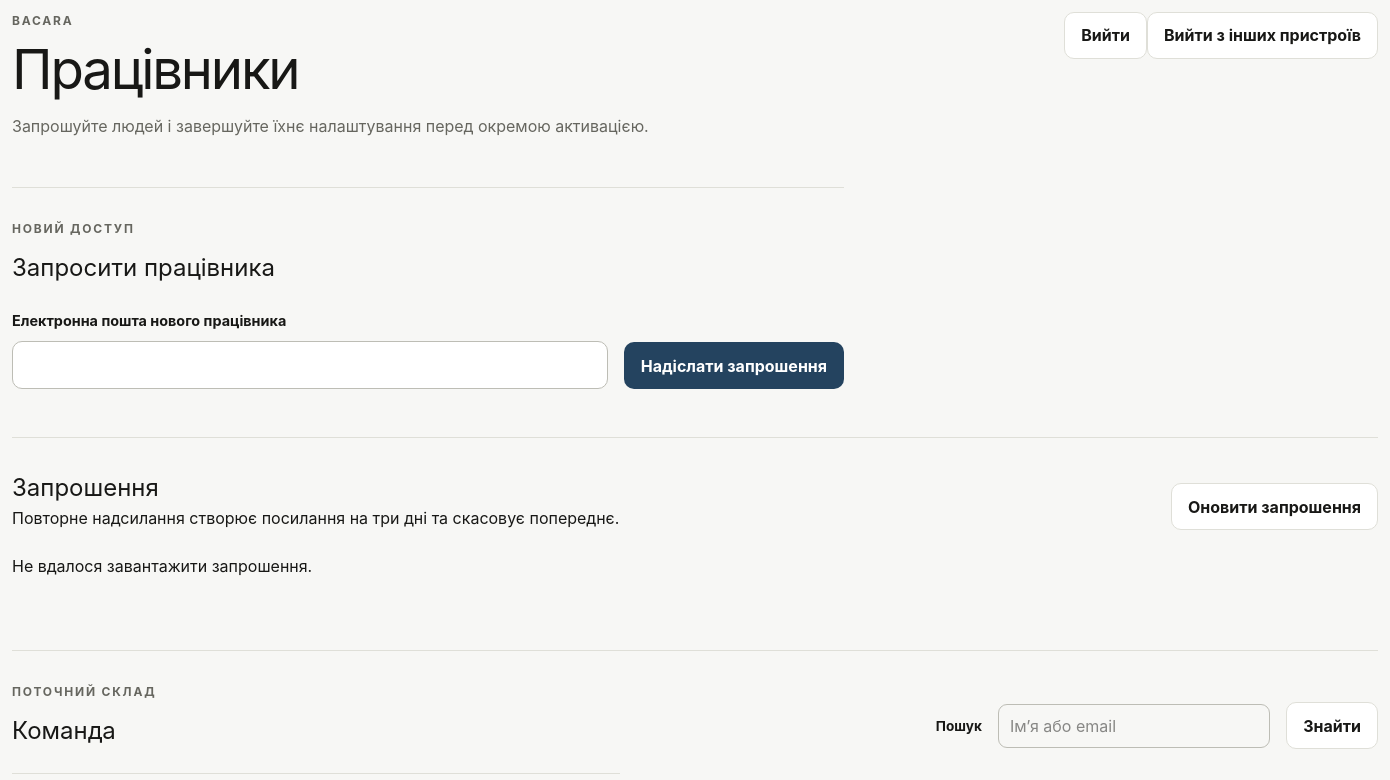
Test case: shows a recoverable read error without breaking the employee page
Check: the text "Не вдалося завантажити запрошення." is shown, box x1=12 y1=556 x2=312 y2=576
Click the button "Оновити запрошення" at [1274, 507], box x1=1171 y1=483 x2=1378 y2=530
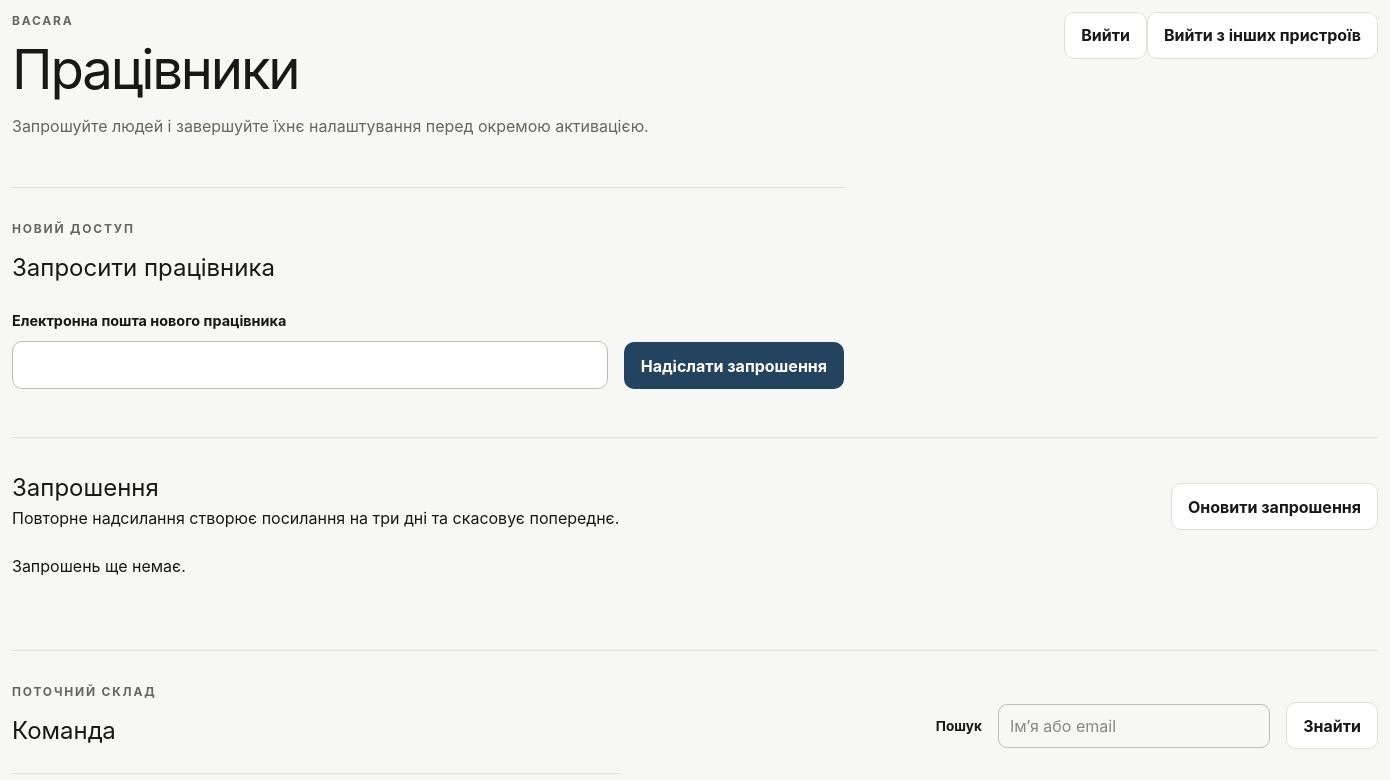
Check: the text "Запрошень ще немає." is shown, box x1=12 y1=556 x2=186 y2=576
